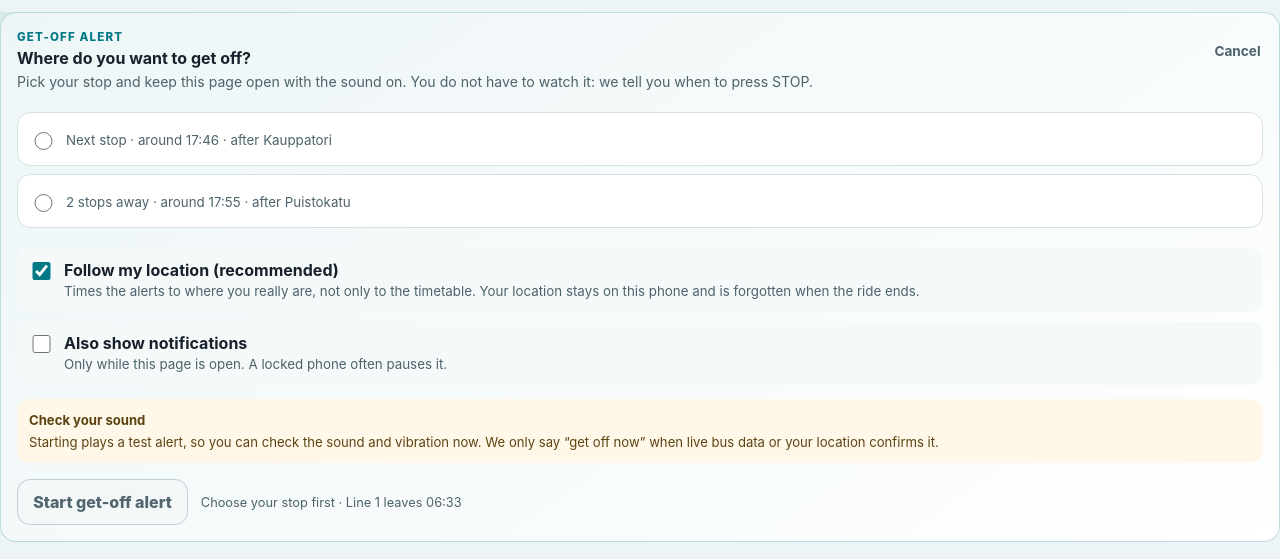
Test: names the chosen stop beside the button that starts the ride
Click the radio button showing "3". click: x=43, y=203
box: [34, 194, 53, 212]
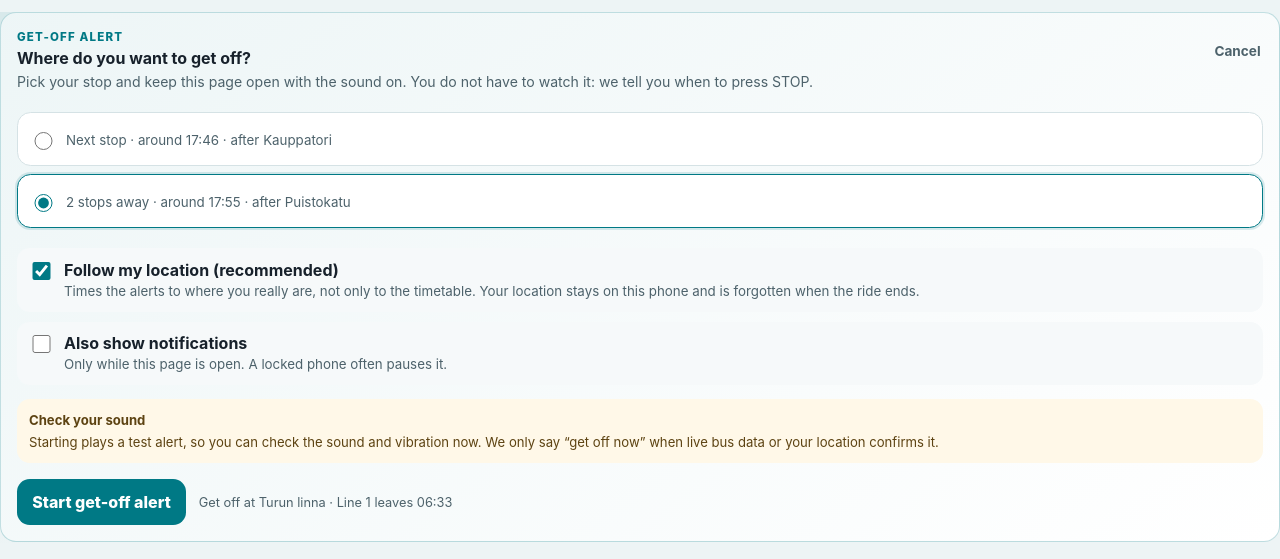
Check: the text "Get off at Turun linna · Line 1 leaves 06:33" is shown, box [199, 495, 452, 510]
